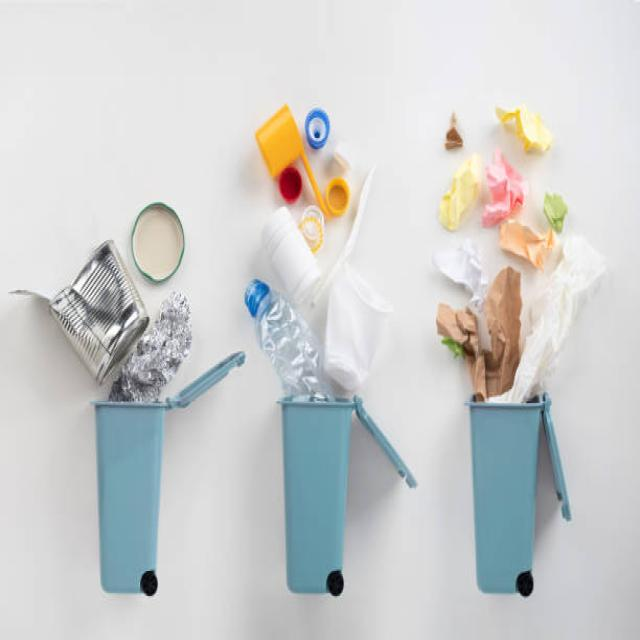metal: (45, 172, 187, 382)
paper: (421, 99, 594, 403)
plastic: (248, 96, 368, 392)
